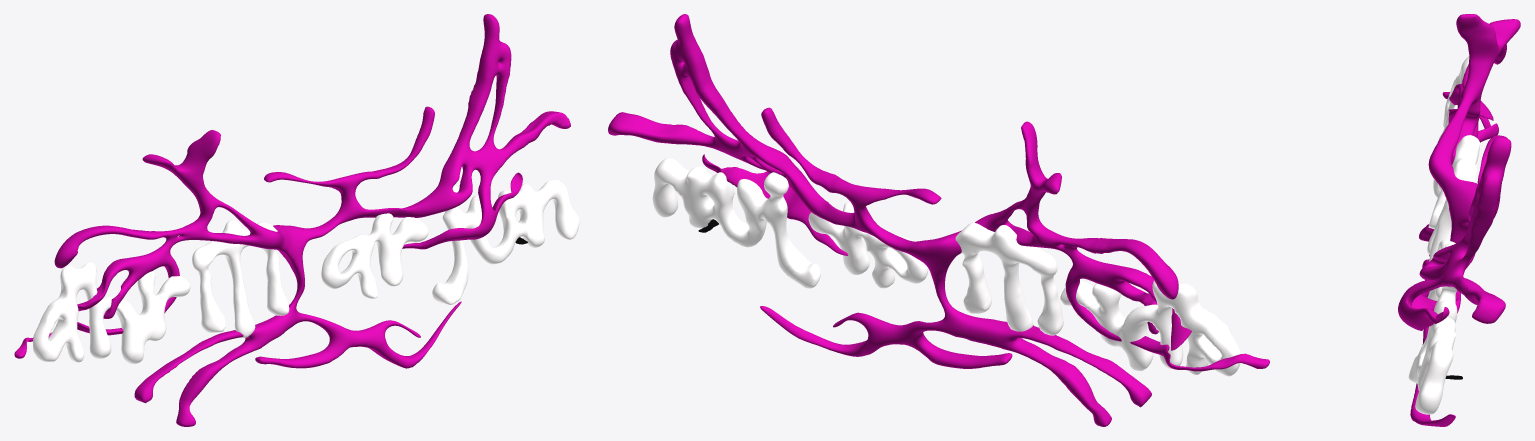
File: testjun26.glb
3 renders of one model, left to right at view 1: azimuth 30°, elevation 25°; view 2: azimuth 150°, elevation 25°; view 3: azimuth 270°, elevation 25°, orthographic. The views are drawn at different scales.
Parts seen in each view (by area): view 1: Curve, Curve.007; view 2: Curve, Curve.007; view 3: Curve, Curve.007.
Boxes of the visible parts, x1,y1,x2,y2 form: Curve: [14, 14, 570, 426]; Curve.007: [33, 179, 579, 364]; Curve: [608, 14, 1269, 426]; Curve.007: [652, 158, 1241, 376]; Curve: [1398, 14, 1520, 426]; Curve.007: [1408, 56, 1479, 414].
Size of the model in its own units: 21.45 by 11 by 6.2.
